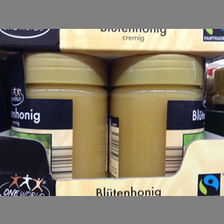honey: (7, 54, 108, 188), (112, 56, 210, 178)
